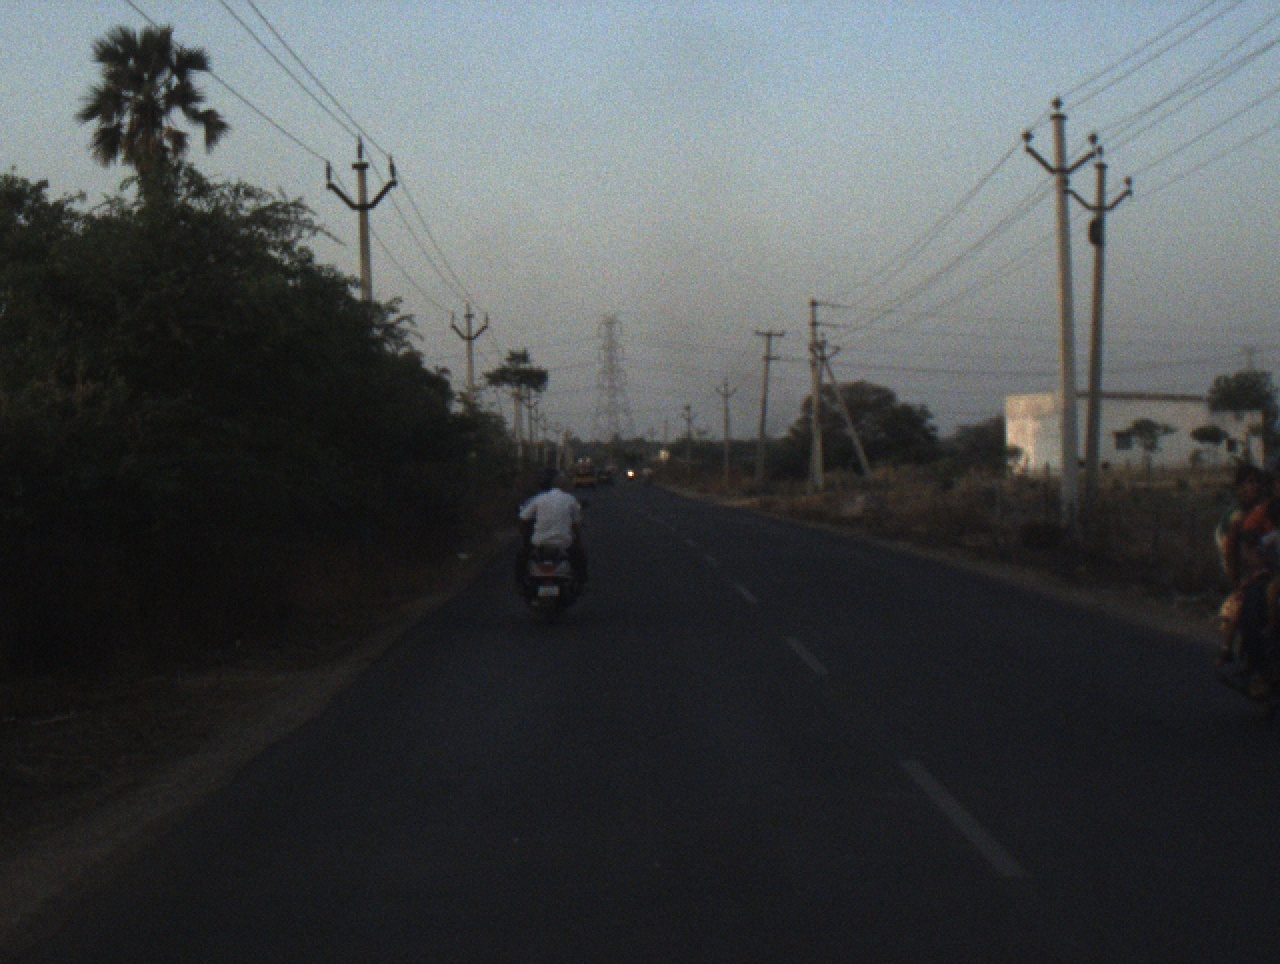autorickshaw: (571, 451, 600, 493)
car: (593, 463, 614, 487)
motorcycle: (514, 495, 599, 626)
rider: (510, 470, 592, 601), (1219, 465, 1259, 681), (1245, 481, 1269, 665), (1261, 503, 1277, 564), (537, 460, 557, 495)
vehicle fallback: (642, 465, 656, 490), (623, 462, 636, 481)
